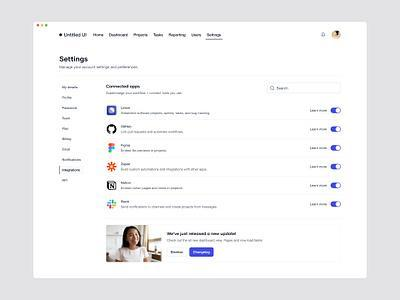button: (55, 167, 84, 176), (190, 248, 214, 258), (169, 249, 188, 258)
input: (269, 82, 342, 94)
label: (60, 158, 85, 165), (61, 105, 81, 113), (60, 85, 82, 92), (310, 126, 329, 134), (310, 108, 330, 115), (310, 146, 329, 153), (61, 94, 76, 102), (310, 166, 329, 172), (310, 184, 329, 190), (60, 137, 77, 143), (61, 116, 75, 123), (62, 146, 74, 154), (59, 177, 71, 185), (310, 202, 329, 207), (62, 127, 72, 133)
switch: (330, 200, 344, 210), (331, 162, 344, 172), (331, 125, 344, 134), (330, 182, 344, 190), (331, 145, 344, 153), (331, 109, 344, 115)
